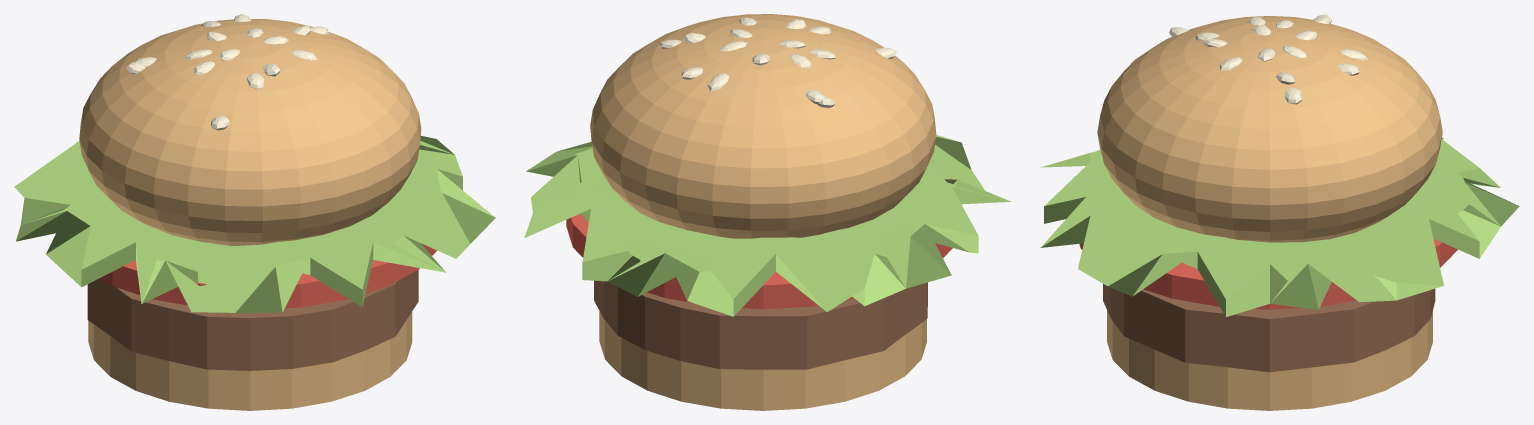
File: burger.glb
3 views of the same model, side by side, from view 1: azimuth 30°, elevation 25°; view 2: azimuth 150°, elevation 25°; view 3: azimuth 270°, elevation 25° (orthographic).
Visible parts, largest first — view 1: burger; view 2: burger; view 3: burger.
Part boxes in pixels (x1=…): burger: x1=14, y1=14, x2=495, y2=410; burger: x1=524, y1=14, x2=1010, y2=410; burger: x1=1040, y1=14, x2=1519, y2=410.
Size of the model in its own units: 0.1501 by 0.1024 by 0.1471.
